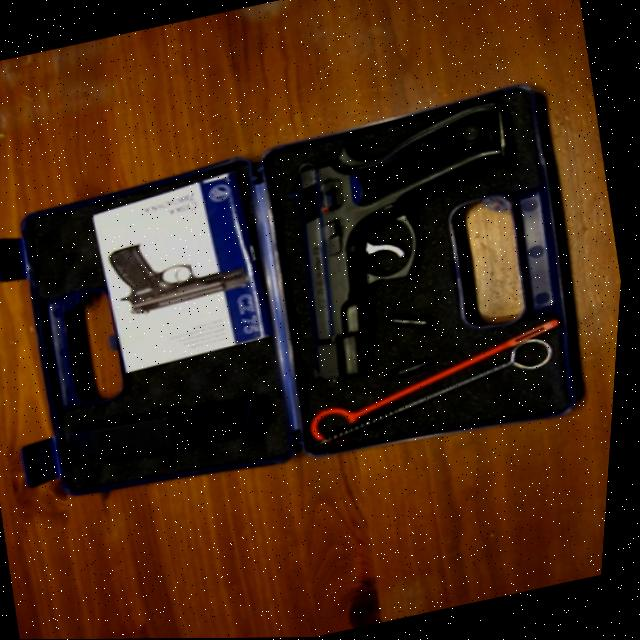pistol: (268, 95, 562, 391), (105, 221, 258, 321)
